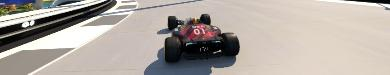Car: (163, 13, 240, 62)
obstacles-Borders: (0, 0, 113, 62)
